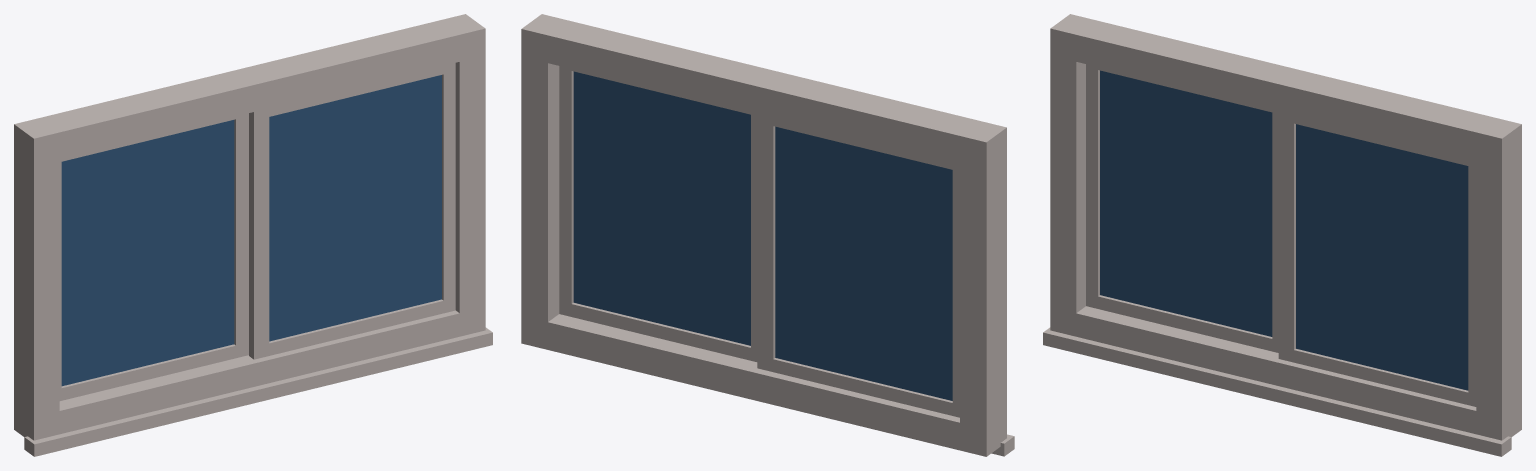
Rendered from SM_Opening_Window11907_01.gltf.
3 renders of one model, left to right at view 1: azimuth 30°, elevation 25°; view 2: azimuth 150°, elevation 25°; view 3: azimuth 330°, elevation 25°, orthographic. The views are drawn at different scales.
Visible parts, largest first — view 1: SM_Opening_Window11907_01; view 2: SM_Opening_Window11907_01; view 3: SM_Opening_Window11907_01.
Boxes of the visible parts, x1,y1,x2,y2 form: SM_Opening_Window11907_01: (14,14,492,456); SM_Opening_Window11907_01: (521,14,1014,456); SM_Opening_Window11907_01: (1043,14,1521,456).
Bounding box in the file's own units: 1.34 × 0.875 × 0.12.
1 material, 1 textured.
